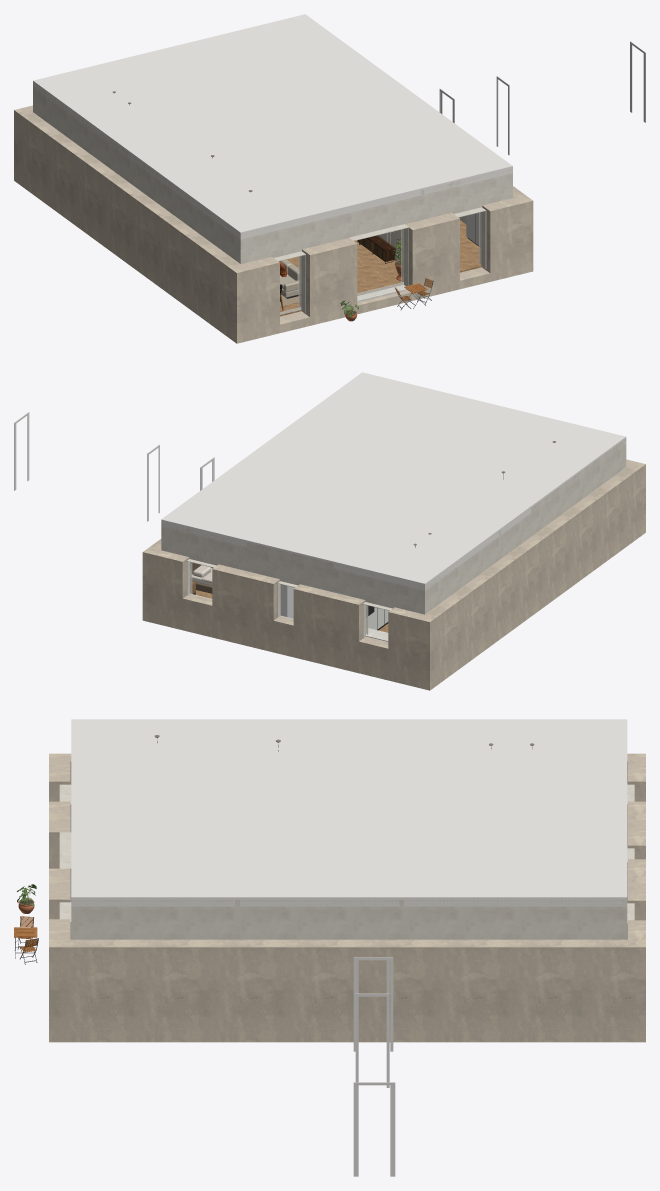
Rendered from appartamento.glb.
3 renders of one model, top to bottom at view 1: azimuth 30°, elevation 25°; view 2: azimuth 150°, elevation 25°; view 3: azimuth 270°, elevation 25°, orthographic. The views are drawn at different scales.
Visible parts, largest first — view 1: LM_AppartamentoAlto, LM_PiantaMuri, LM_Appartamento; view 2: LM_AppartamentoAlto, LM_PiantaMuri, LM_Appartamento; view 3: LM_AppartamentoAlto, LM_PiantaMuri, LM_Appartamento.
Boxes of the visible parts, <box> form: LM_AppartamentoAlto: <box>33,14,643,307</box>; LM_PiantaMuri: <box>14,105,533,343</box>; LM_Appartamento: <box>242,41,645,321</box>; LM_AppartamentoAlto: <box>16,372,626,634</box>; LM_PiantaMuri: <box>142,459,645,690</box>; LM_Appartamento: <box>14,412,424,642</box>; LM_AppartamentoAlto: <box>71,719,627,1085</box>; LM_PiantaMuri: <box>49,753,645,1042</box>; LM_Appartamento: <box>14,784,634,1176</box>.
Size of the model in its own units: 21.68 by 4.37 by 16.93.
Materials: 48 (37 with a texture image).
